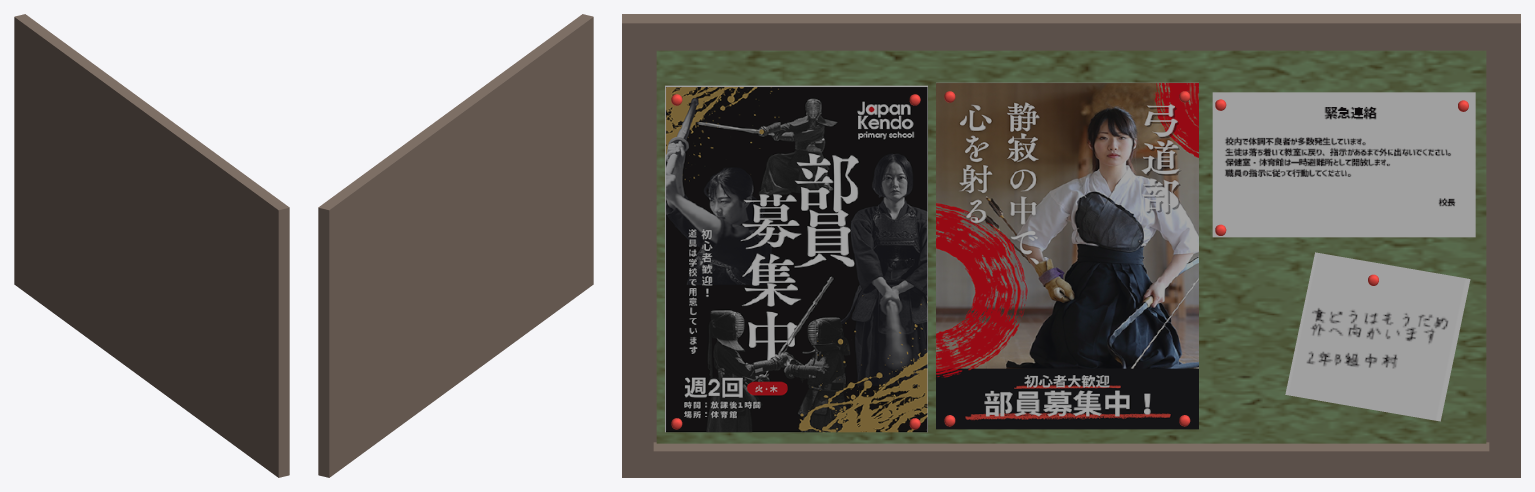
The model's file is 掲示板.fbx.
3 views of the same model, side by side, from view 1: azimuth 30°, elevation 25°; view 2: azimuth 150°, elevation 25°; view 3: azimuth 270°, elevation 25° (orthographic). The views are drawn at different scales.
Visible parts, largest first — view 1: 枠; view 2: 枠; view 3: 枠, ポスター1, ポスター2, 緑, 校長より, 手描き.
Boxes of the visible parts, x1,y1,x2,y2 form: 枠: (14,14,289,477); 枠: (318,14,593,477); 枠: (622,14,1520,477); ポスター1: (665,85,927,432); ポスター2: (936,82,1198,429); 緑: (656,50,1486,443); 校長より: (1212,92,1475,237); 手描き: (1285,252,1470,421).
Bounding box in the file's own units: 0.0289 × 0.4957 × 0.8878.
